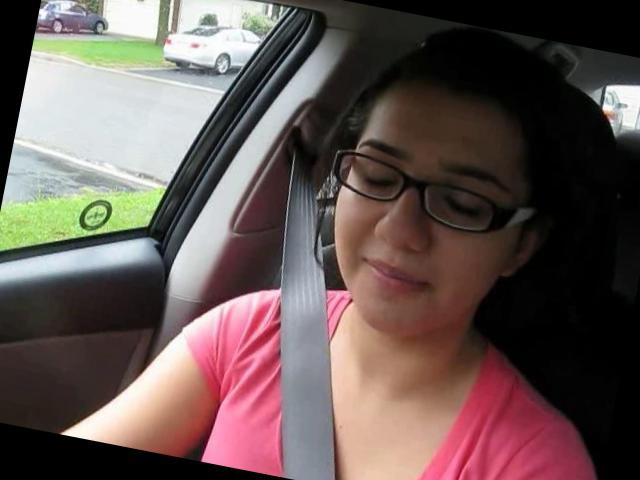eye_closed: (432, 186, 498, 232), (351, 163, 404, 199)
face: (308, 106, 540, 362)
